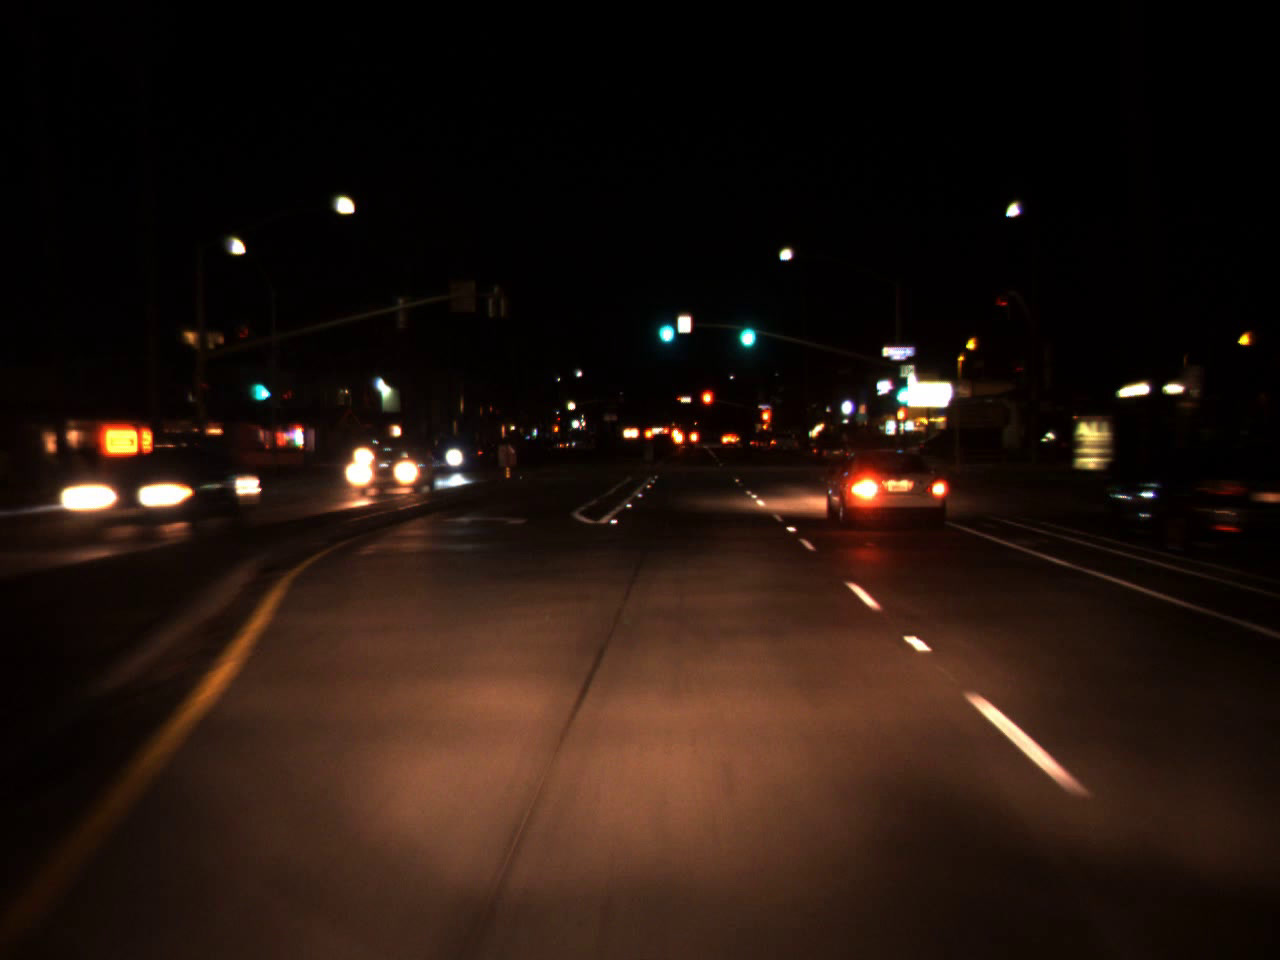go: (653, 303, 678, 348), (249, 366, 274, 405), (732, 313, 759, 346), (892, 374, 911, 407)
stop: (699, 389, 714, 421), (760, 407, 772, 439)
